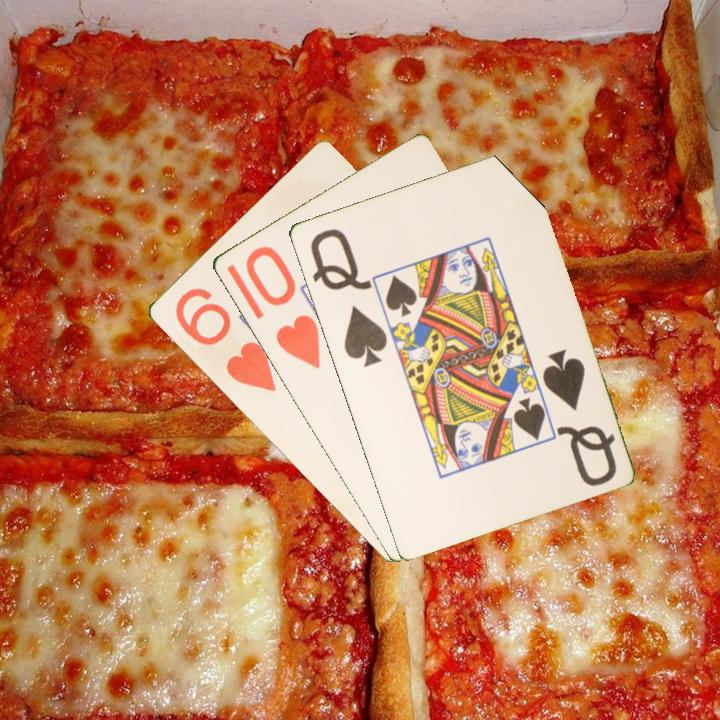10h: (241, 242, 323, 372)
6h: (170, 284, 279, 395)
Qs: (306, 224, 390, 370), (538, 345, 619, 489)
